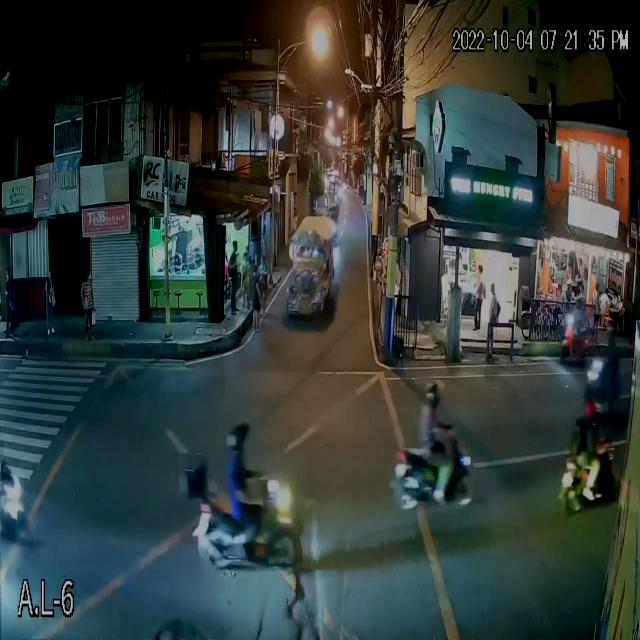Full-Faced: (423, 378, 445, 409)
Half-Faced: (227, 421, 249, 459)
